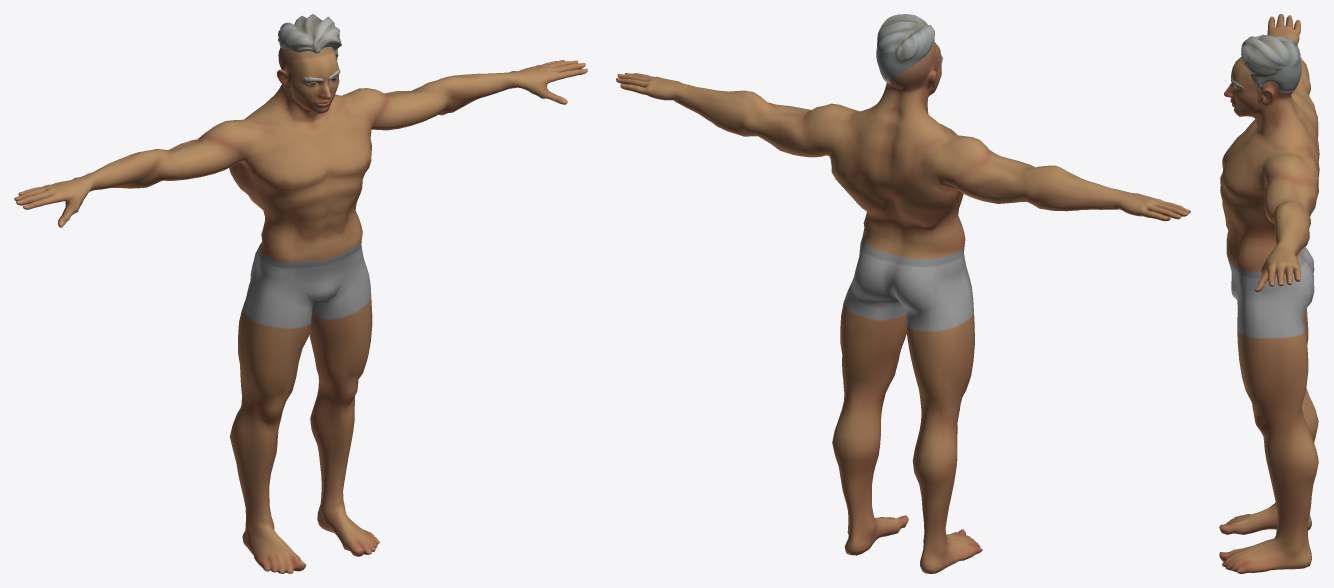
File: character-male-e.glb
The picture shows the model from 3 angles, left to right: view 1: azimuth 30°, elevation 25°; view 2: azimuth 150°, elevation 25°; view 3: azimuth 270°, elevation 25°; orthographic projection. The views are drawn at different scales.
Visible parts, largest first — view 1: crowd-body; view 2: crowd-body; view 3: crowd-body.
Boxes of the visible parts, box(x1,y1,x2,y2) form: crowd-body: box(14, 14, 587, 573); crowd-body: box(616, 14, 1190, 573); crowd-body: box(1219, 14, 1319, 573).
Bounding box in the file's own units: 1.96 × 1.74 × 0.3068.
4 materials, 4 textured.
